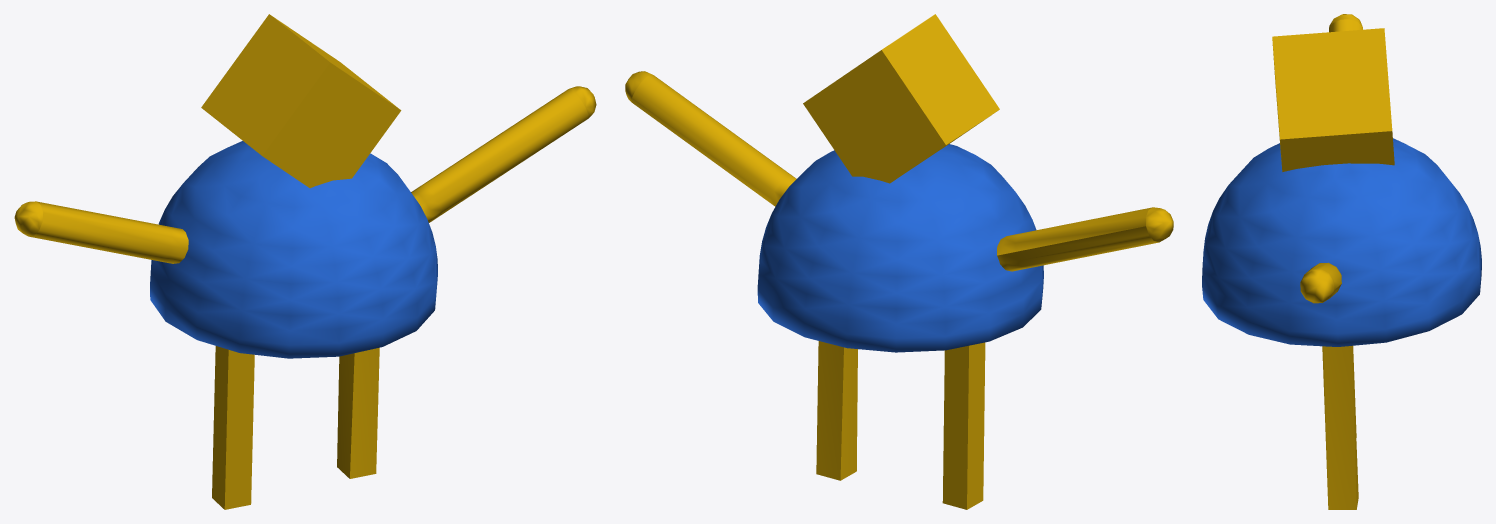
File: guest8.fbx
The picture shows the model from 3 angles, left to right: view 1: azimuth 30°, elevation 25°; view 2: azimuth 150°, elevation 25°; view 3: azimuth 270°, elevation 25°; orthographic projection. The views are drawn at different scales.
Visible parts, largest first — view 1: guest8; view 2: guest8; view 3: guest8.
Part boxes in pixels (bbox=[...]): guest8: bbox=[14, 14, 596, 509]; guest8: bbox=[625, 14, 1173, 509]; guest8: bbox=[1202, 14, 1481, 509].
Bounding box in the file's own units: 220 × 171 × 97.61.
